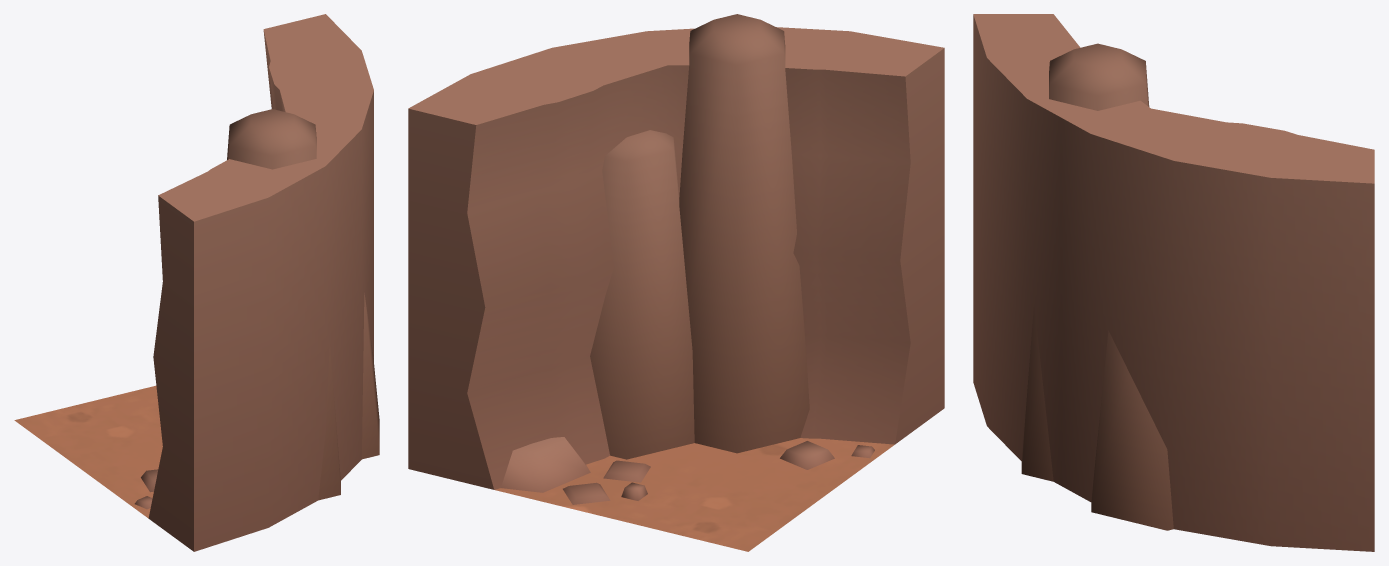
File: template-corner.glb
3 renders of one model, left to right at view 1: azimuth 30°, elevation 25°; view 2: azimuth 150°, elevation 25°; view 3: azimuth 270°, elevation 25°, orthographic. The views are drawn at different scales.
Parts seen in each view (by area): view 1: template-corner; view 2: template-corner; view 3: template-corner.
Part boxes in pixels (x1=…): template-corner: x1=14, y1=14, x2=379, y2=551; template-corner: x1=408, y1=14, x2=944, y2=551; template-corner: x1=973, y1=14, x2=1374, y2=551.
Bounding box in the file's own units: 4 × 4.4 × 4.
1 material, 1 textured.
